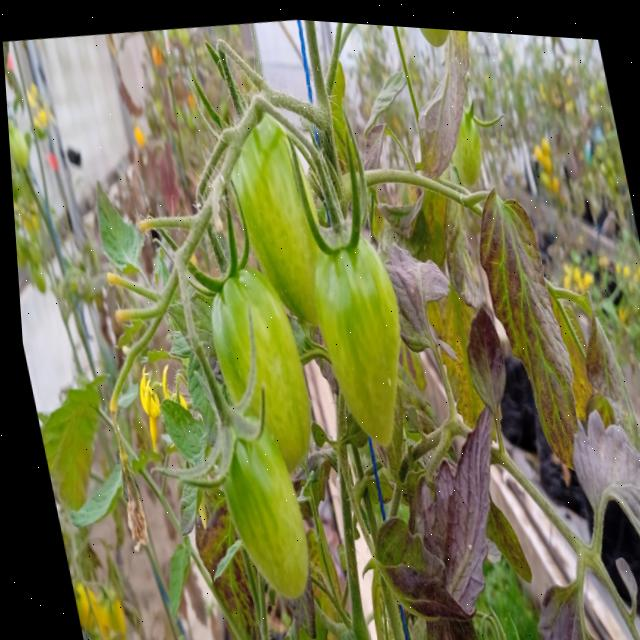unripe: (182, 258, 320, 467), (311, 210, 421, 451), (182, 396, 318, 588), (217, 147, 332, 323)
